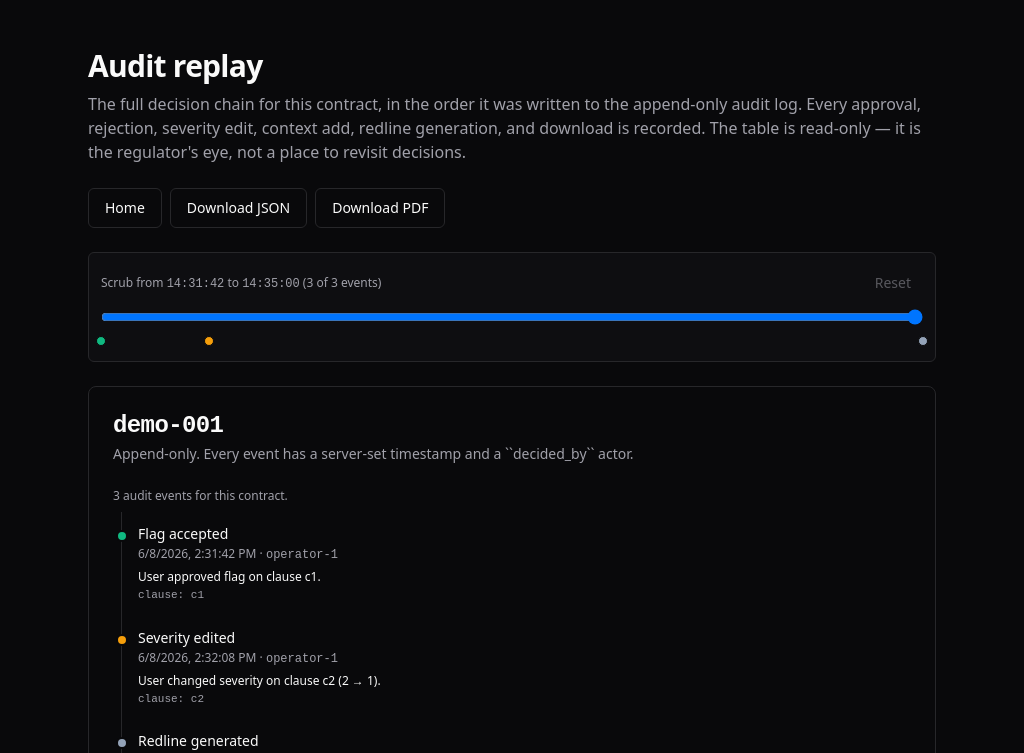
Test case: AuditReplayPage — Phase 6 event markers above the scrubber › clicking a marker moves the scrubber to that timestamp
The width and height of the screenshot is (1024, 753).
// Click the oldest marker.
Click the button with test id "audit-event-marker-0" at [101, 341], box [96, 336, 106, 346]
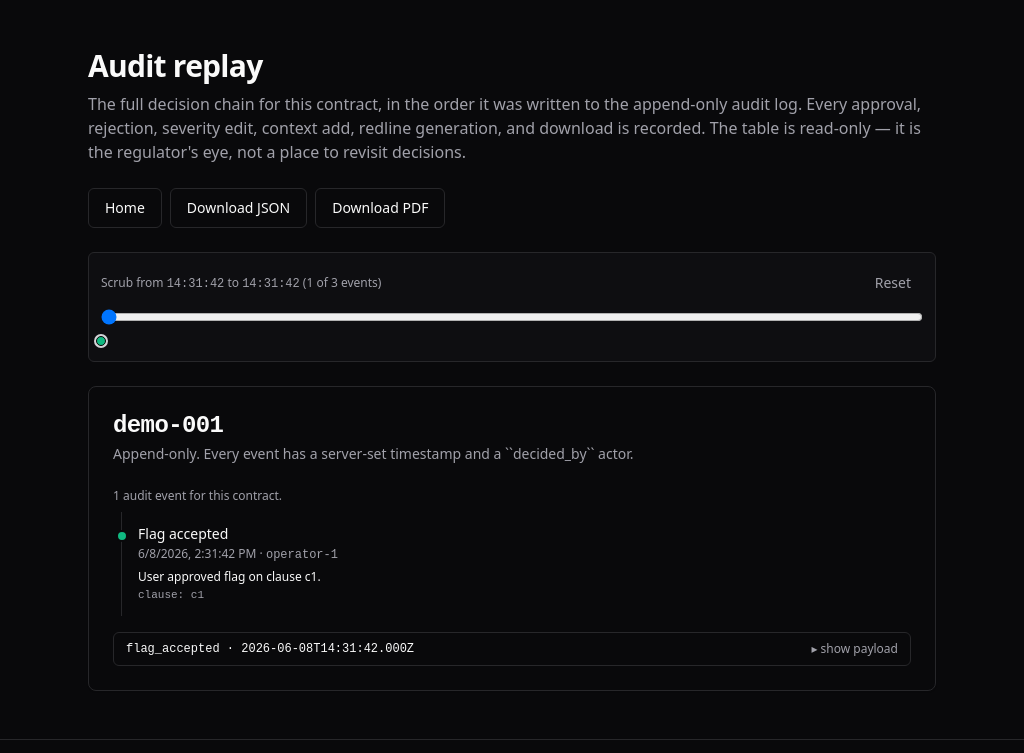
Check: the button with test id "audit-scrub-reset" is enabled, box [863, 265, 923, 301]
